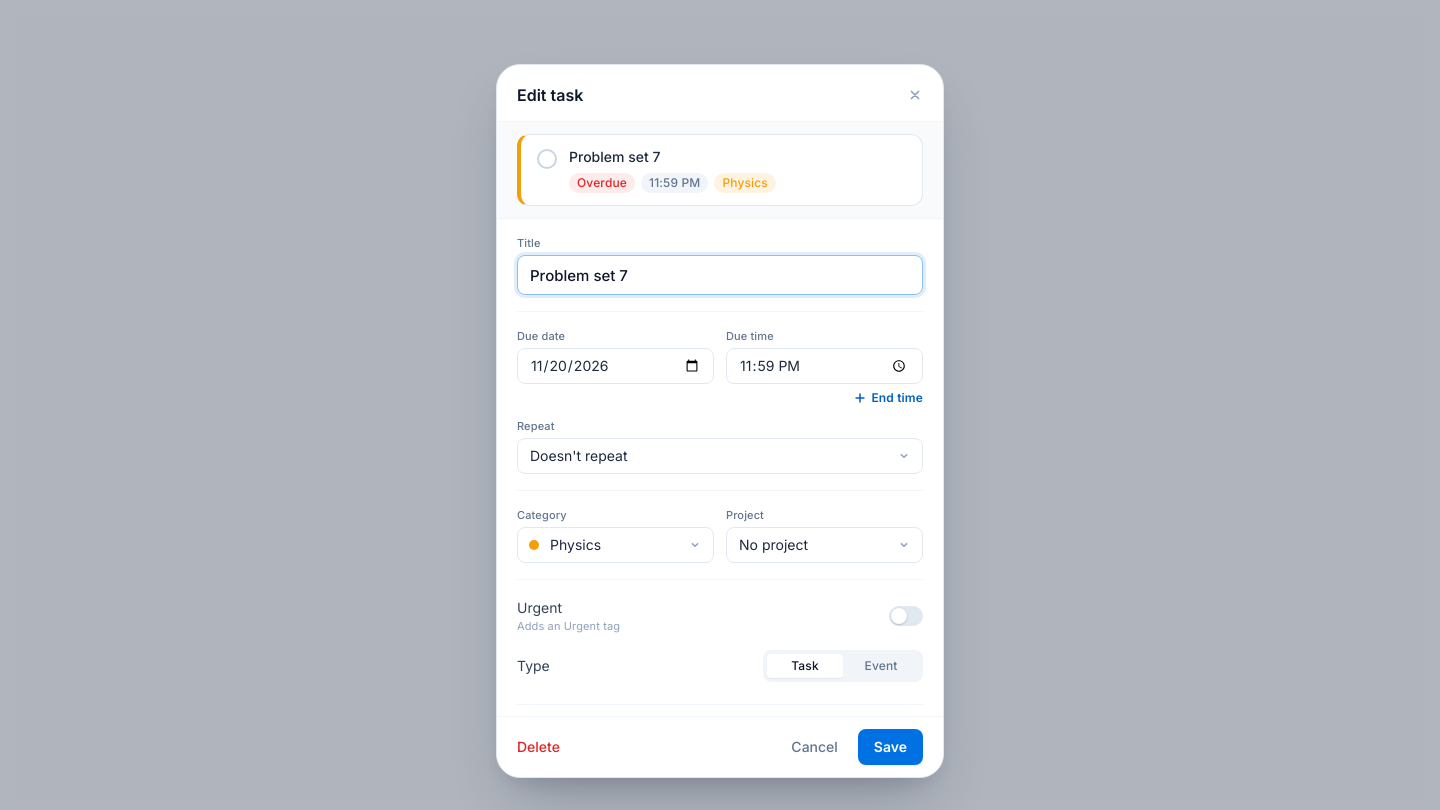
Test: Edit item (desktop) › asks before throwing away changes
Later steps or results of the test are not shown.
Replace the text in the field labelled "Title" with "Problem set 8" at (720,275), box [517, 255, 923, 295]
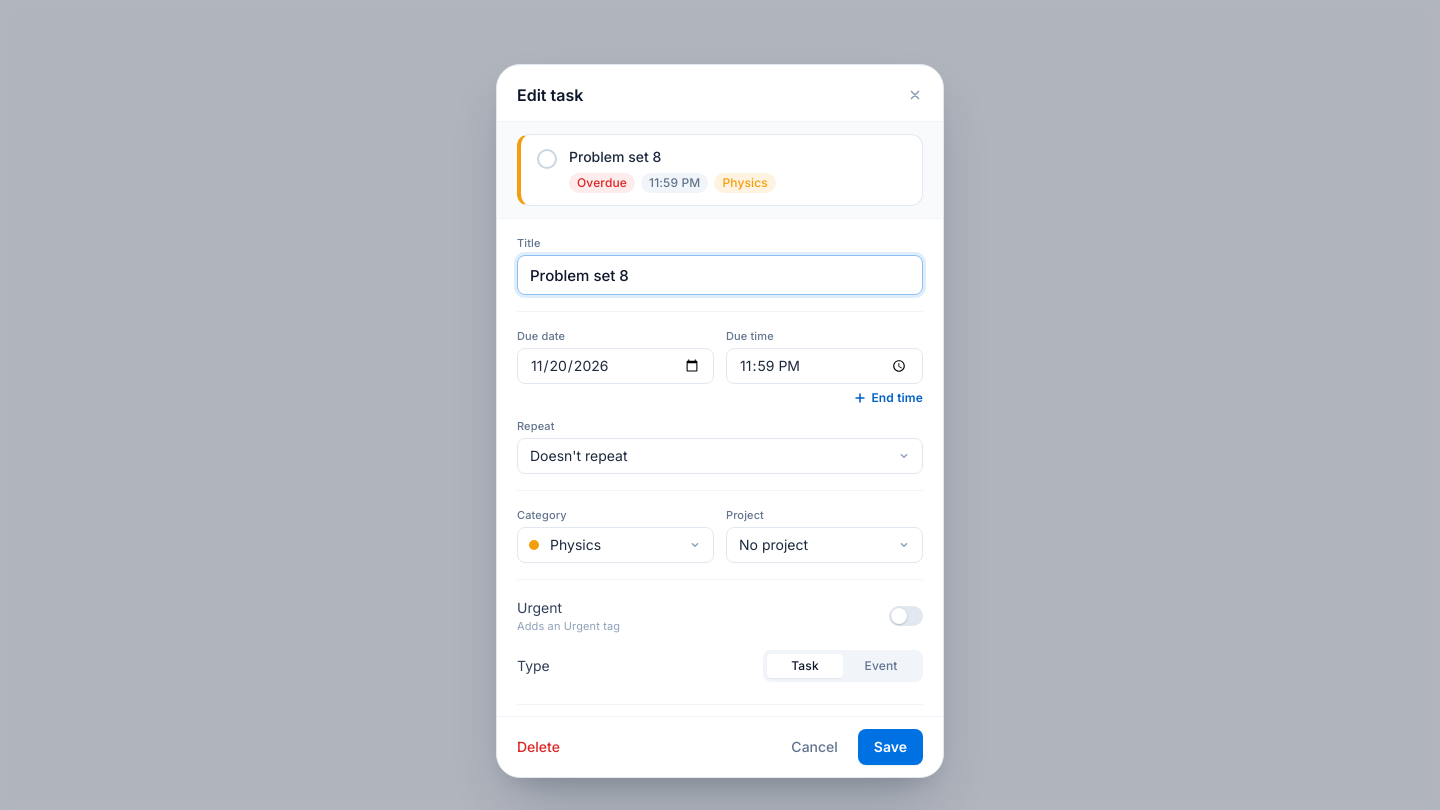
Press Escape
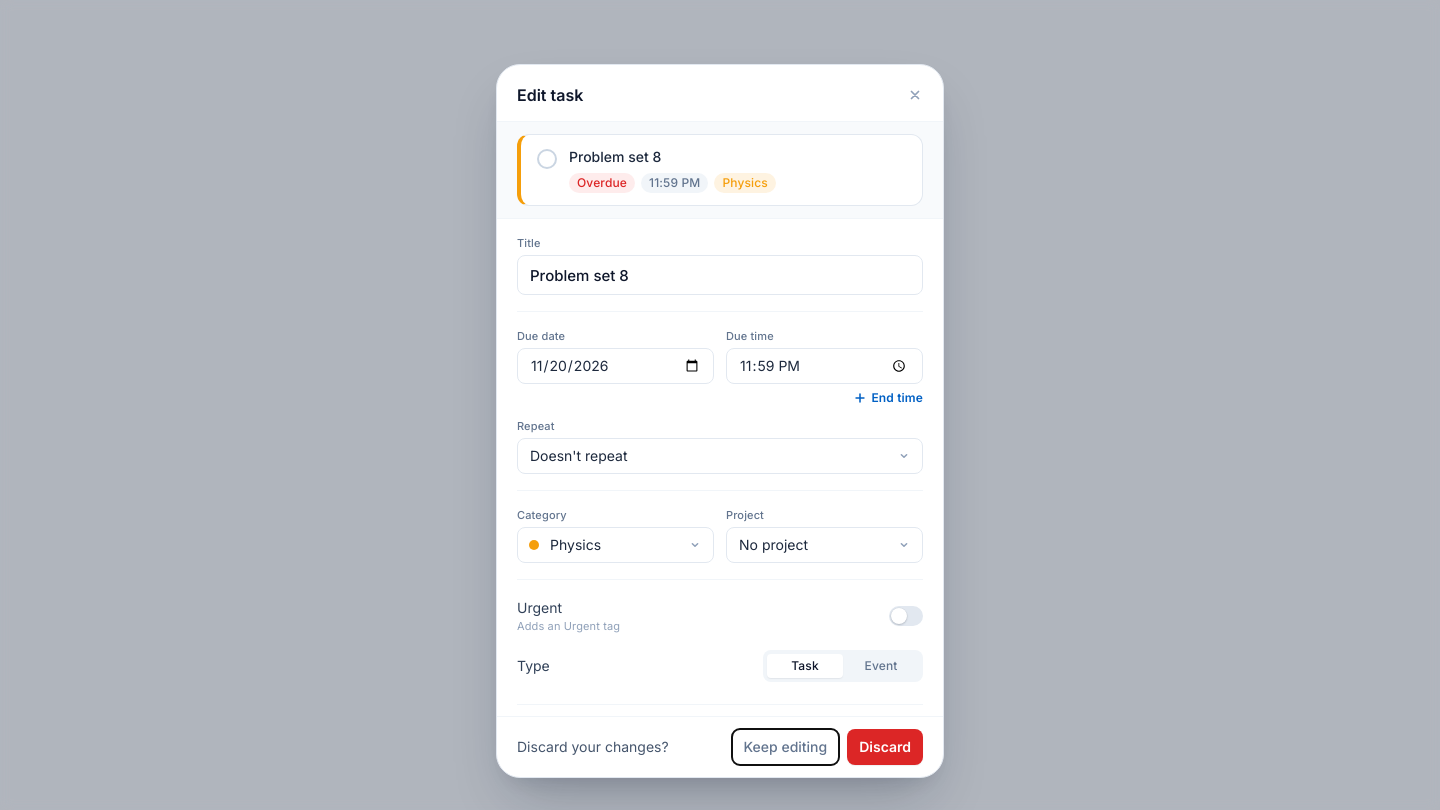
Expected: the text "Discard your changes?" is shown, [517, 738, 669, 755]
Click the button "Keep editing".
click(785, 747)  # box [732, 729, 839, 765]
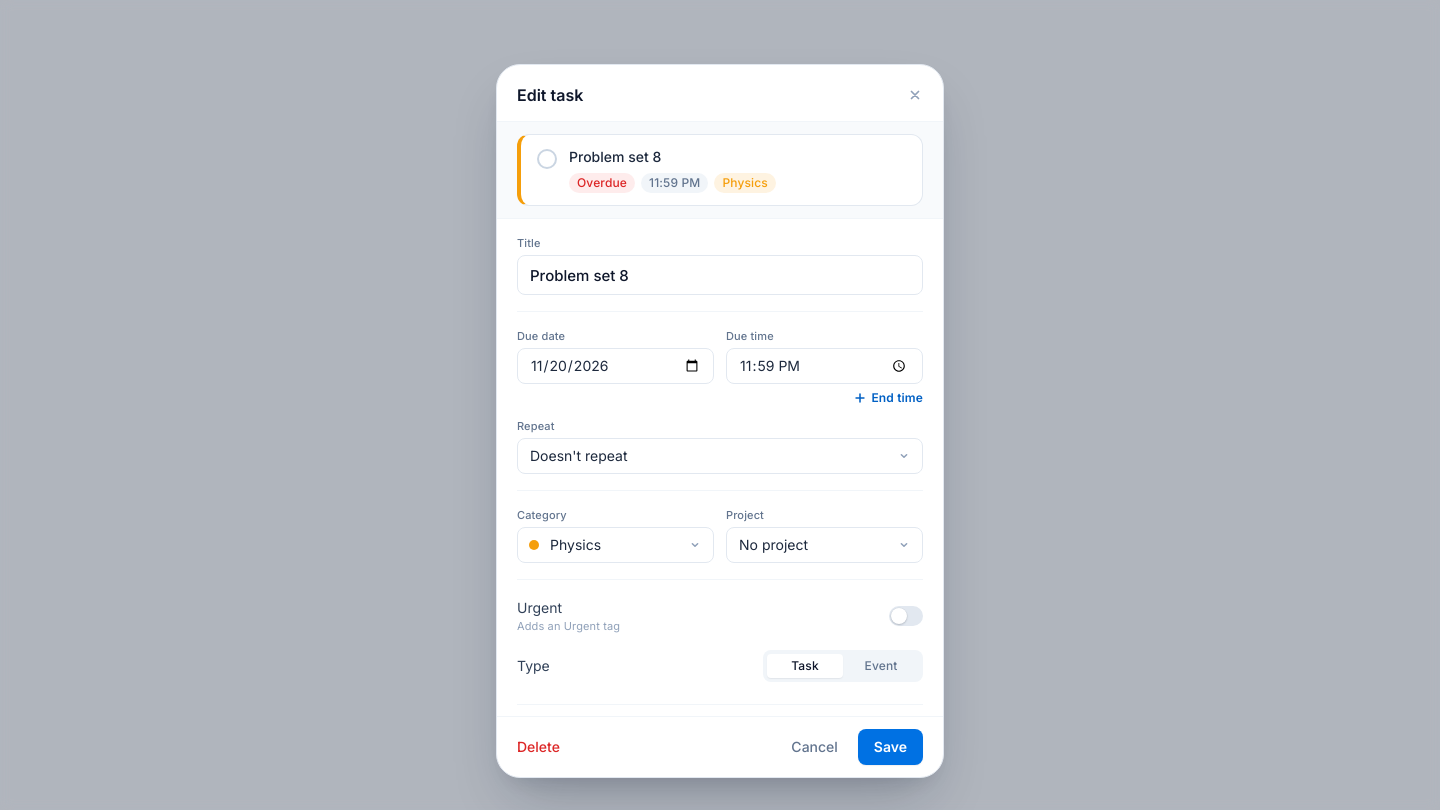
Expected: the text "Discard your changes?" is gone
